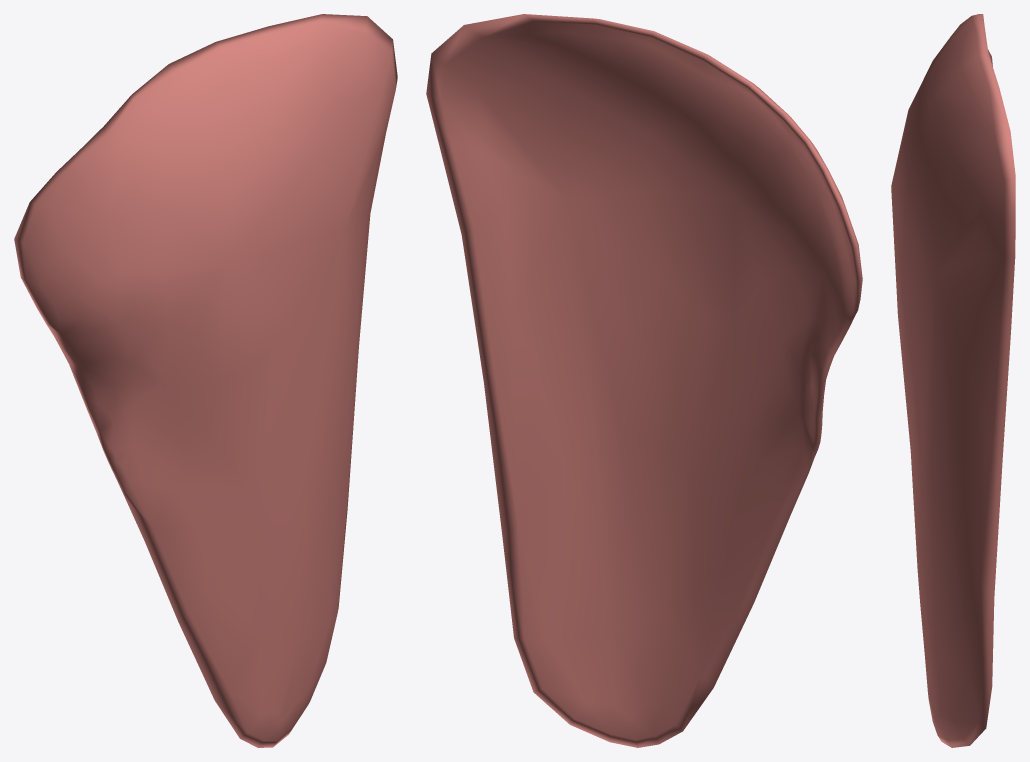
3 views of the same model, side by side, from view 1: azimuth 30°, elevation 25°; view 2: azimuth 150°, elevation 25°; view 3: azimuth 270°, elevation 25° (orthographic). The views are drawn at different scales.
Visible parts, largest first — view 1: ZA_940bb40e55c73c0d; view 2: ZA_940bb40e55c73c0d; view 3: ZA_940bb40e55c73c0d.
Part boxes in pixels (box(x1,y1,x2,y2)): ZA_940bb40e55c73c0d: box(14, 14, 397, 747); ZA_940bb40e55c73c0d: box(426, 14, 862, 747); ZA_940bb40e55c73c0d: box(891, 14, 1015, 747).
Size of the model in its own units: 0.0215 by 0.0365 by 0.00591.
